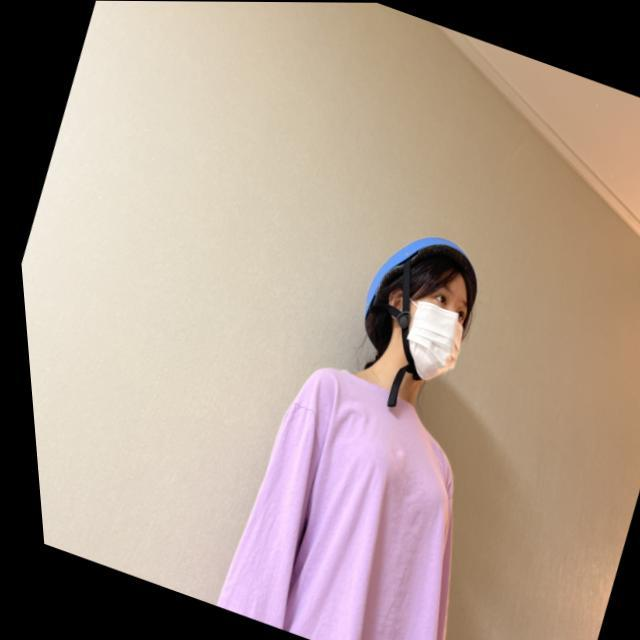Helmet: (360, 239, 479, 384)
